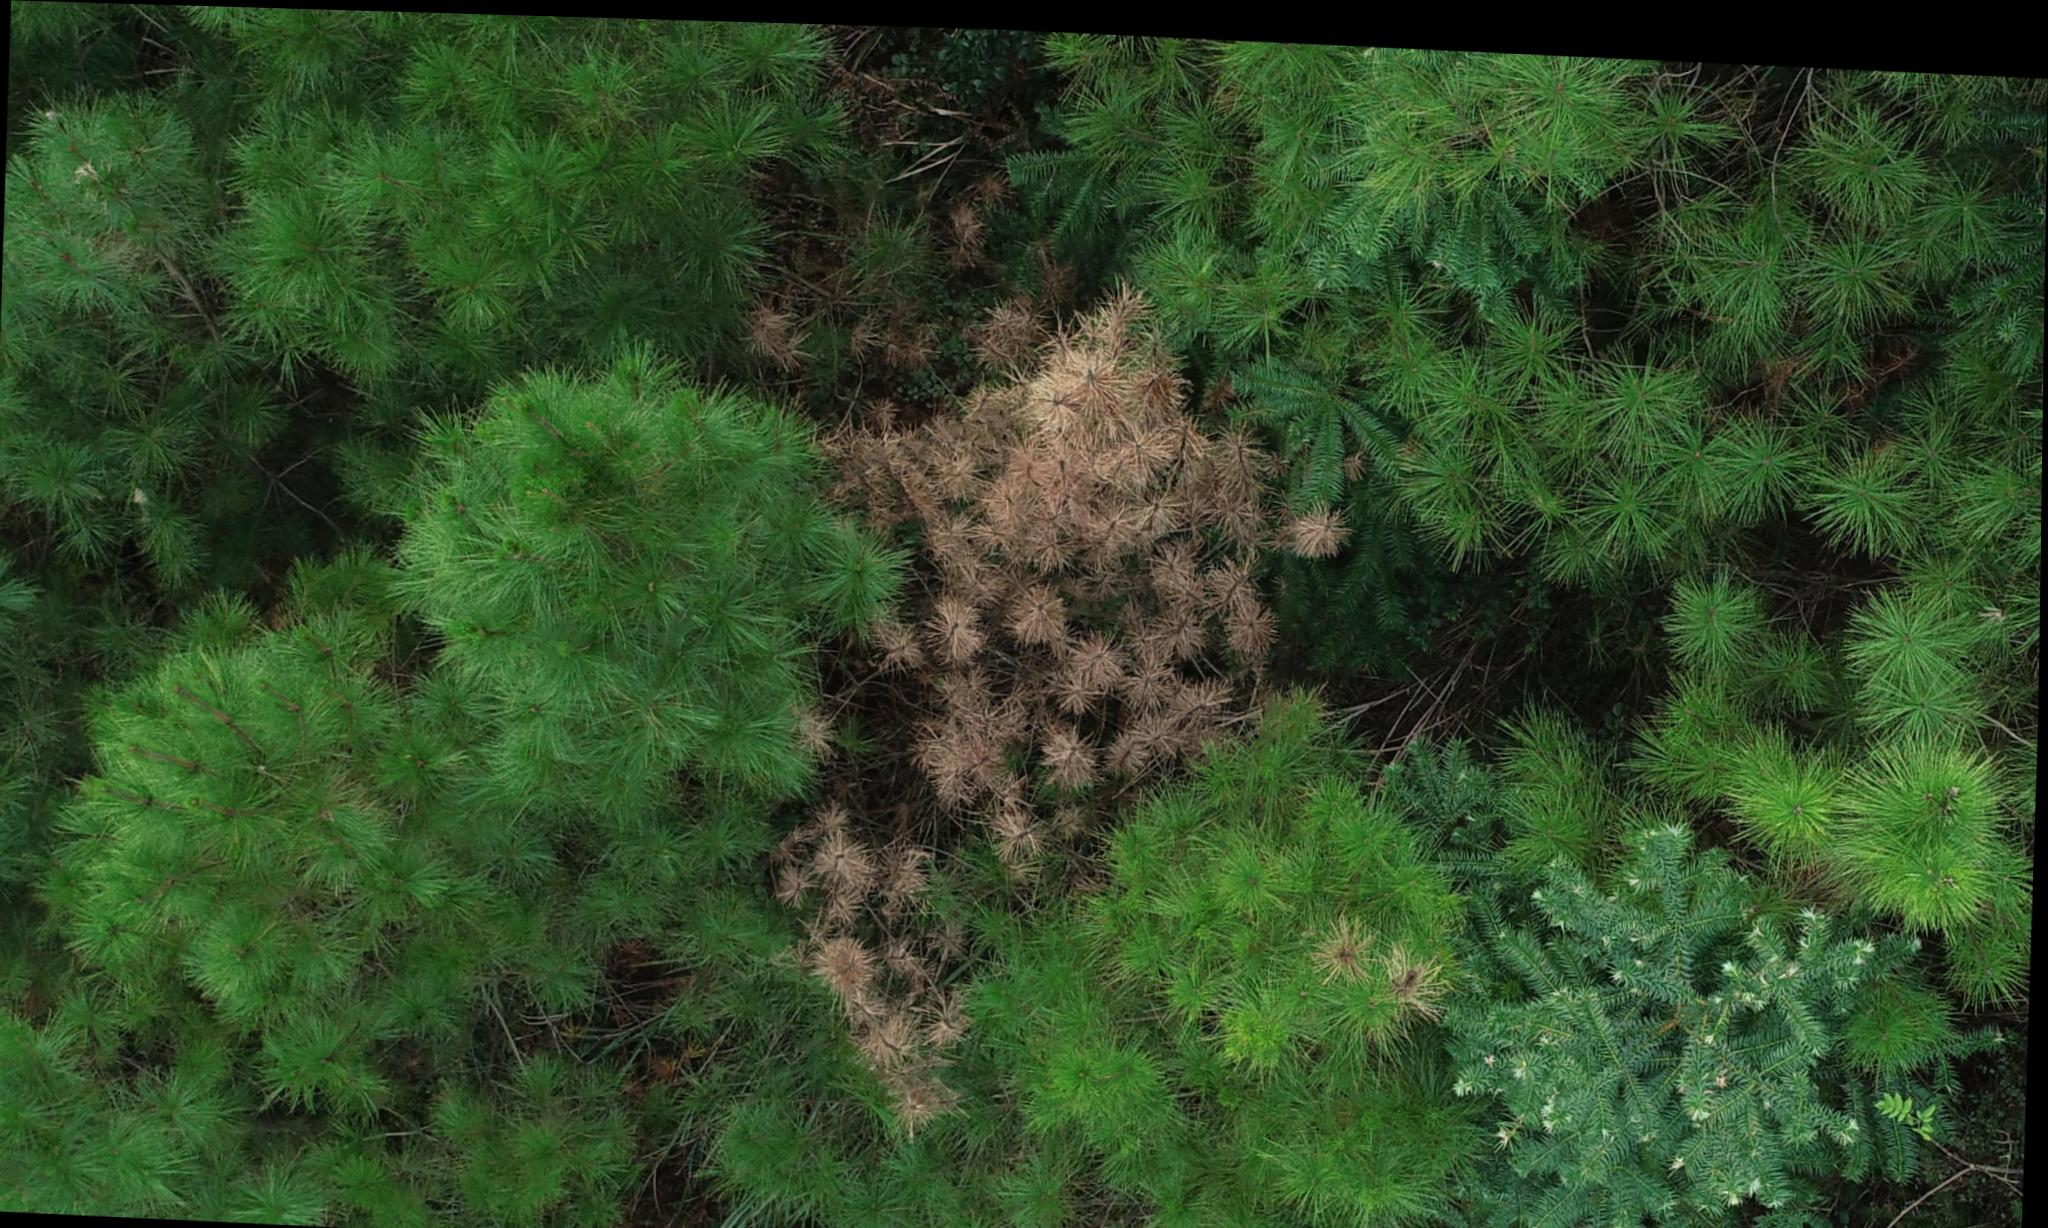heavy: (851, 266, 1285, 792), (772, 808, 957, 1127)
